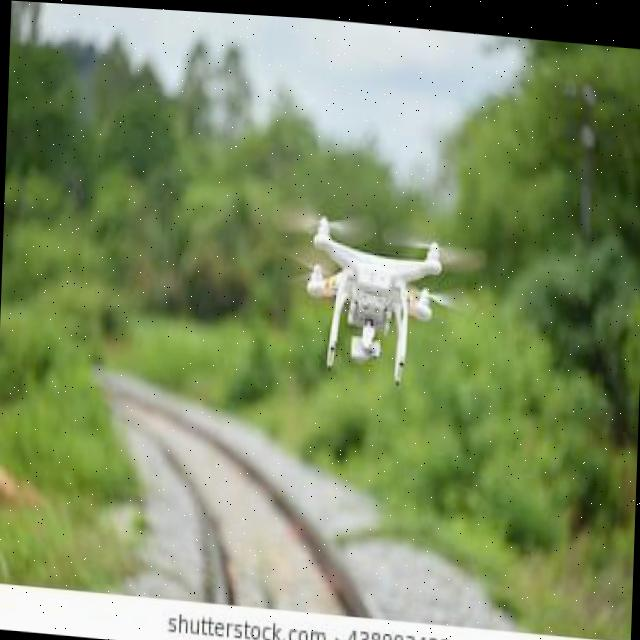drone: (258, 176, 491, 396)
